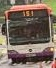bus: (20, 9, 35, 18)
